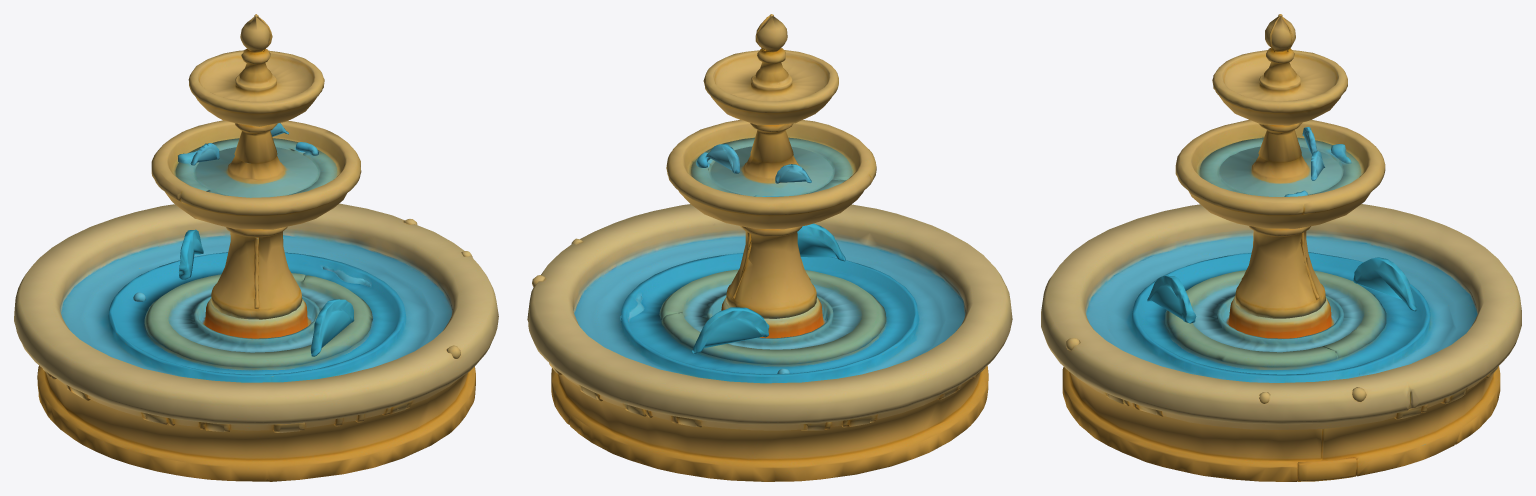
The model's file is r33-fountainroyal.glb.
The picture shows the model from 3 angles, left to right: view 1: azimuth 30°, elevation 25°; view 2: azimuth 150°, elevation 25°; view 3: azimuth 270°, elevation 25°; orthographic projection.
Visible parts, largest first — view 1: tripo_node_0103512d-d65a-4bfb-83a8-c703933d95dc; view 2: tripo_node_0103512d-d65a-4bfb-83a8-c703933d95dc; view 3: tripo_node_0103512d-d65a-4bfb-83a8-c703933d95dc.
Part boxes in pixels (left/top/right/bottom): tripo_node_0103512d-d65a-4bfb-83a8-c703933d95dc: left=14, top=14, right=498, bottom=481; tripo_node_0103512d-d65a-4bfb-83a8-c703933d95dc: left=527, top=14, right=1012, bottom=481; tripo_node_0103512d-d65a-4bfb-83a8-c703933d95dc: left=1041, top=14, right=1521, bottom=481.
Bounding box in the file's own units: 0.998 × 0.8613 × 0.998.
1 material, 1 textured.
